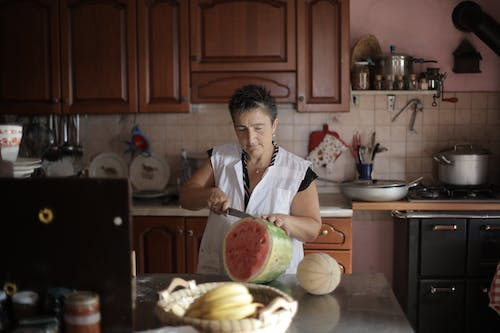knife: (227, 206, 253, 218)
